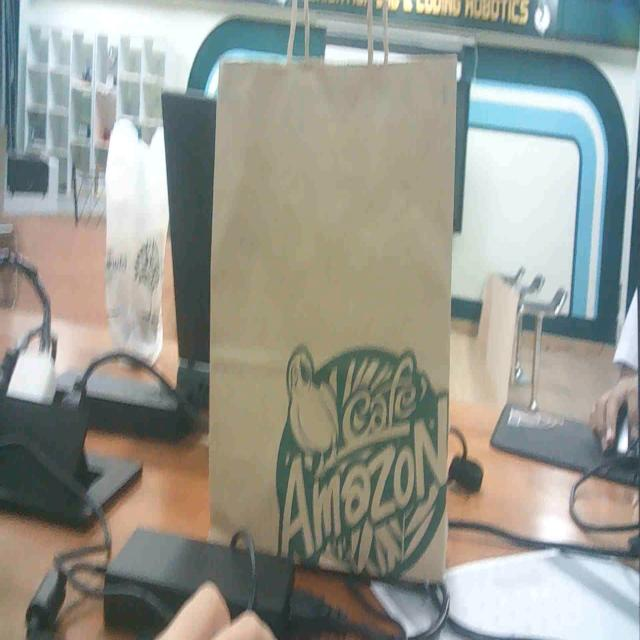bag: (176, 30, 484, 597)
